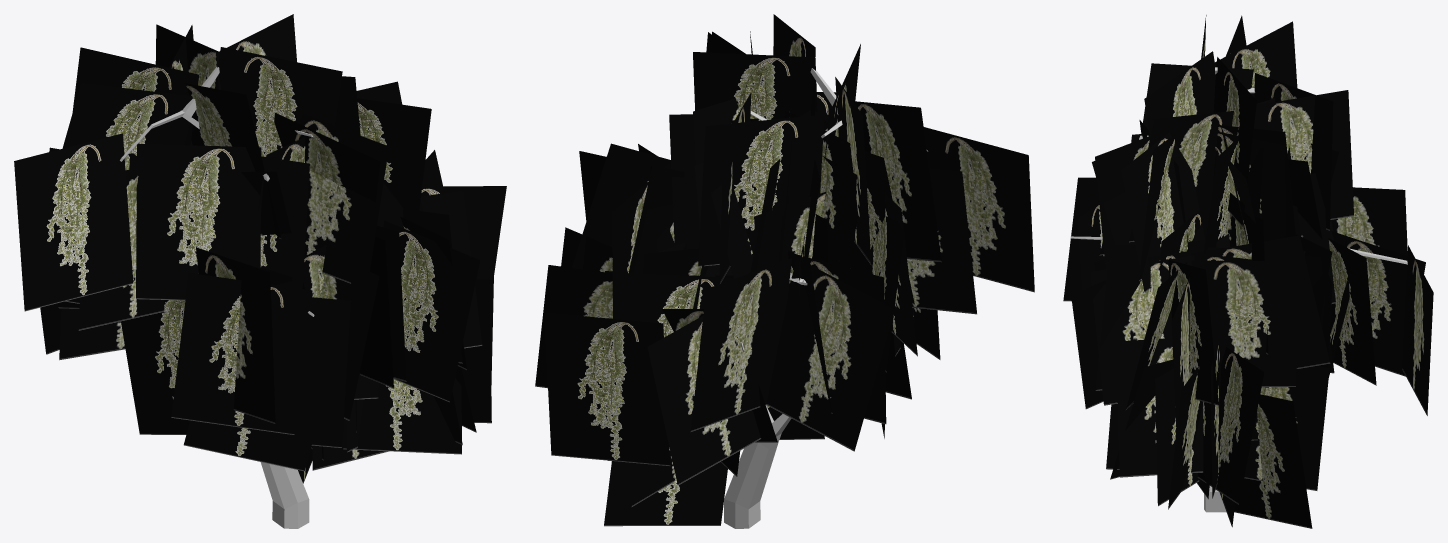
Rendered from tree2GProps.fbx.
3 renders of one model, left to right at view 1: azimuth 30°, elevation 25°; view 2: azimuth 150°, elevation 25°; view 3: azimuth 270°, elevation 25°, orthographic. The views are drawn at different scales.
Visible parts, largest first — view 1: Cube.043|Empty.003|Dupli|99, Cube.043|Empty.003|Dupli|83, Cube.043|Empty.003|Dupli|59, Cube.043|Empty.003|Dupli|98, Cube.043|Empty.003|Dupli|12, Cube.043|Empty.003|Dupli|78, Cube.043|Empty.003|Dupli|66, Cube.043|Empty.003|Dupli|64, Cube.043|Empty.003|Dupli|75, Cube.043|Empty.003|Dupli|62, Cube.043|Empty.003|Dupli|37, Cube.043|Empty.003|Dupli|86 (+28 smaller); view 2: Cube.043|Empty.003|Dupli|54, Cube.043|Empty.003|Dupli|50, Cube.043|Empty.003|Dupli|47, Cube.043|Empty.003|Dupli|99, Cube.043|Empty.003|Dupli|81, Cube.043|Empty.003|Dupli|43, Cube.043|Empty.003|Dupli|75, Cube.043|Empty.003|Dupli|77, Cube.043|Empty.003|Dupli|67, Cube.043|Empty.003|Dupli|1, Cube.043|Empty.003|Dupli|96, Cube.043 (+32 smaller); view 3: Cube.043|Empty.003|Dupli|93, Cube.043|Empty.003|Dupli|1, Cube.043|Empty.003|Dupli|18, Cube.043|Empty.003|Dupli|86, Cube.043|Empty.003|Dupli|41, Cube.043|Empty.003|Dupli|36, Cube.043|Empty.003|Dupli|43, Cube.043|Empty.003|Dupli|42, Cube.043|Empty.003|Dupli|94, Cube.043|Empty.003|Dupli|, Cube.043|Empty.003|Dupli|26, Cube.043|Empty.003|Dupli|54 (+38 smaller).
Part boxes in pixels (x1,y1,x2,y2): Cube.043|Empty.003|Dupli|99: (14,133,133,311); Cube.043|Empty.003|Dupli|83: (136,143,261,300); Cube.043|Empty.003|Dupli|59: (171,273,312,434); Cube.043|Empty.003|Dupli|98: (383,220,480,402); Cube.043|Empty.003|Dupli|12: (299,114,388,283); Cube.043|Empty.003|Dupli|78: (215,47,342,156); Cube.043|Empty.003|Dupli|66: (196,247,275,423); Cube.043|Empty.003|Dupli|64: (183,321,327,471); Cube.043|Empty.003|Dupli|75: (62,83,192,170); Cube.043|Empty.003|Dupli|62: (121,300,189,434); Cube.043|Empty.003|Dupli|37: (343,378,461,454); Cube.043|Empty.003|Dupli|86: (357,98,431,210); Cube.043|Empty.003|Dupli|54: (544,312,670,465); Cube.043|Empty.003|Dupli|50: (766,258,894,451); Cube.043|Empty.003|Dupli|47: (690,258,791,431); Cube.043|Empty.003|Dupli|99: (923,127,1034,292); Cube.043|Empty.003|Dupli|81: (698,114,824,266); Cube.043|Empty.003|Dupli|43: (647,316,760,485); Cube.043|Empty.003|Dupli|75: (837,101,941,262); Cube.043|Empty.003|Dupli|77: (693,52,817,120); Cube.043|Empty.003|Dupli|67: (907,168,976,314); Cube.043|Empty.003|Dupli|1: (604,461,727,526); Cube.043|Empty.003|Dupli|96: (572,143,671,269); Cube.043: (724,68,927,528); Cube.043|Empty.003|Dupli|93: (1191,260,1299,386); Cube.043|Empty.003|Dupli|1: (1234,394,1312,528); Cube.043|Empty.003|Dupli|18: (1254,90,1353,219); Cube.043|Empty.003|Dupli|86: (1121,132,1205,292); Cube.043|Empty.003|Dupli|41: (1197,347,1264,504); Cube.043|Empty.003|Dupli|36: (1116,338,1203,477); Cube.043|Empty.003|Dupli|43: (1331,231,1425,376); Cube.043|Empty.003|Dupli|42: (1328,238,1376,385); Cube.043|Empty.003|Dupli|94: (1090,255,1194,405); Cube.043|Empty.003|Dupli|: (1244,366,1329,490); Cube.043|Empty.003|Dupli|26: (1199,235,1330,368); Cube.043|Empty.003|Dupli|54: (1402,245,1433,415).
Bounding box in the file's own units: 3827 × 3786 × 2970.
